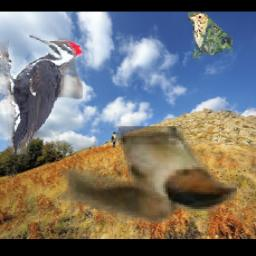Sparrow: (188, 12, 233, 59)
Swallow: (63, 127, 238, 224)
Woodpecker: (0, 34, 84, 155)
